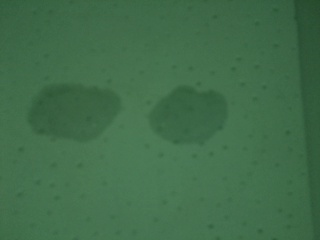Water_detected: (34, 81, 105, 135), (154, 90, 213, 137)
